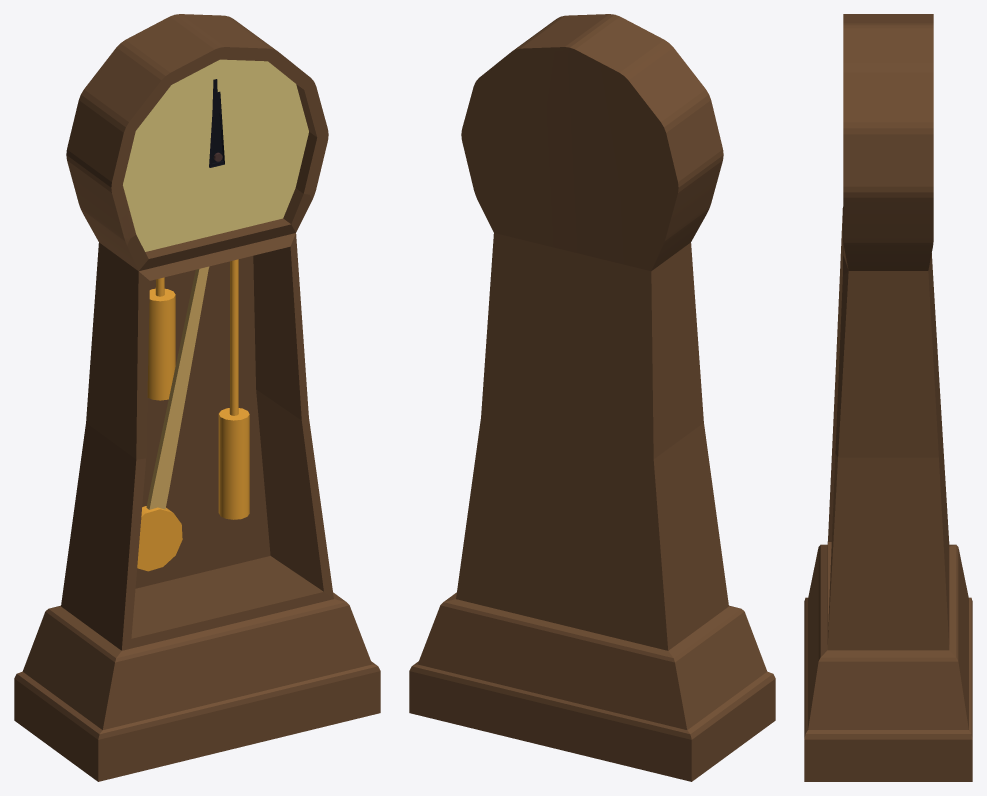
The model's file is anim_test_clock.glb.
The picture shows the model from 3 angles, left to right: view 1: azimuth 30°, elevation 25°; view 2: azimuth 150°, elevation 25°; view 3: azimuth 270°, elevation 25°; orthographic projection.
Parts seen in each view (by area): view 1: clock, pendulum, weight2, weight1; view 2: clock; view 3: clock.
Part boxes in pixels (<box>): clock: <box>14,14,380,781</box>; pendulum: <box>137,266,209,571</box>; weight2: <box>218,259,249,519</box>; weight1: <box>147,277,175,400</box>; clock: <box>409,14,775,781</box>; clock: <box>804,14,972,781</box>.
Bounding box in the file's own units: 2 × 4.64 × 1.03.
Materials: 1 (1 with a texture image).
